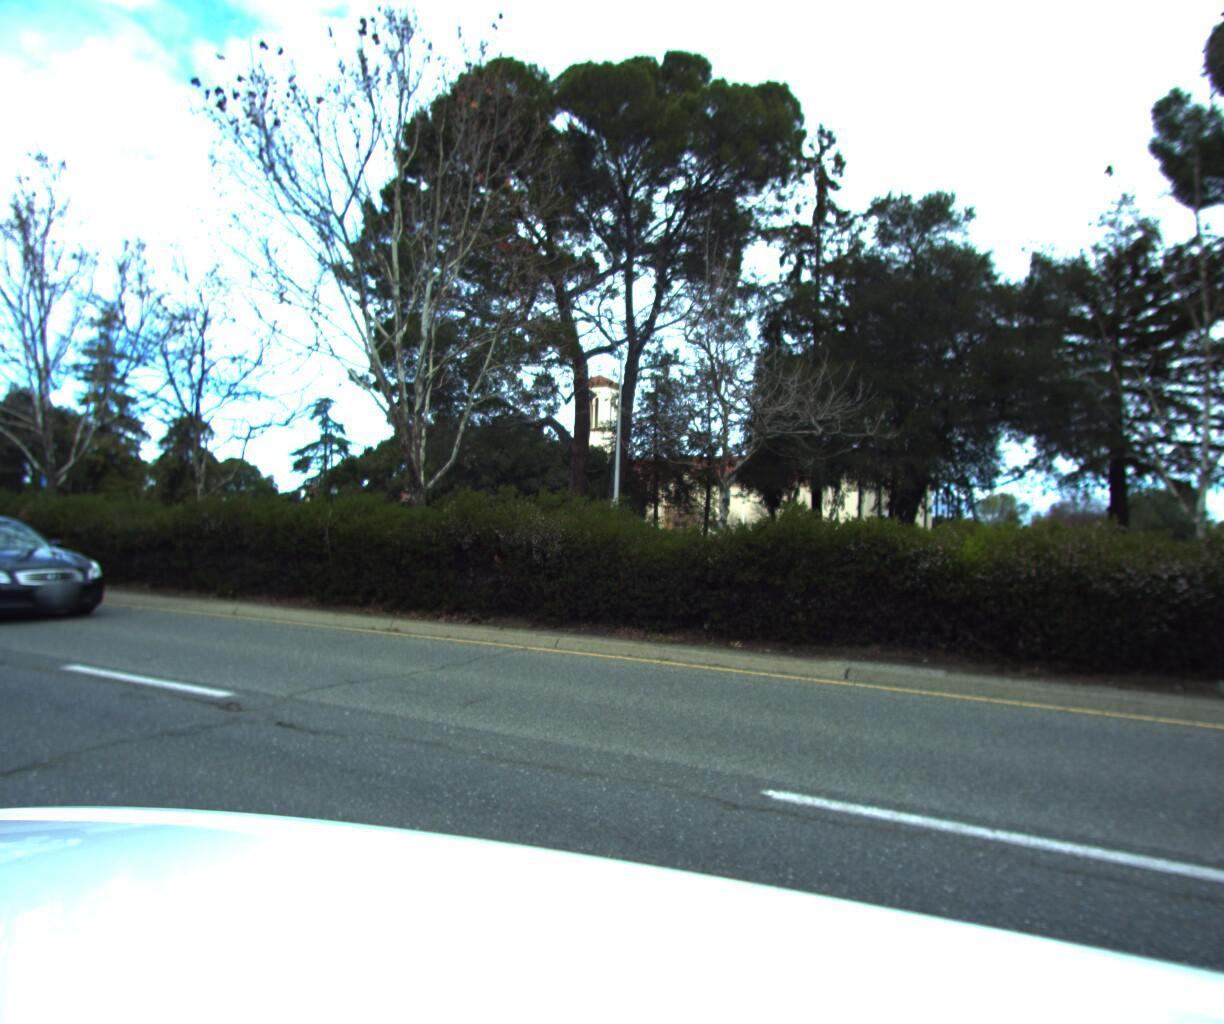car: (0, 510, 115, 631)
